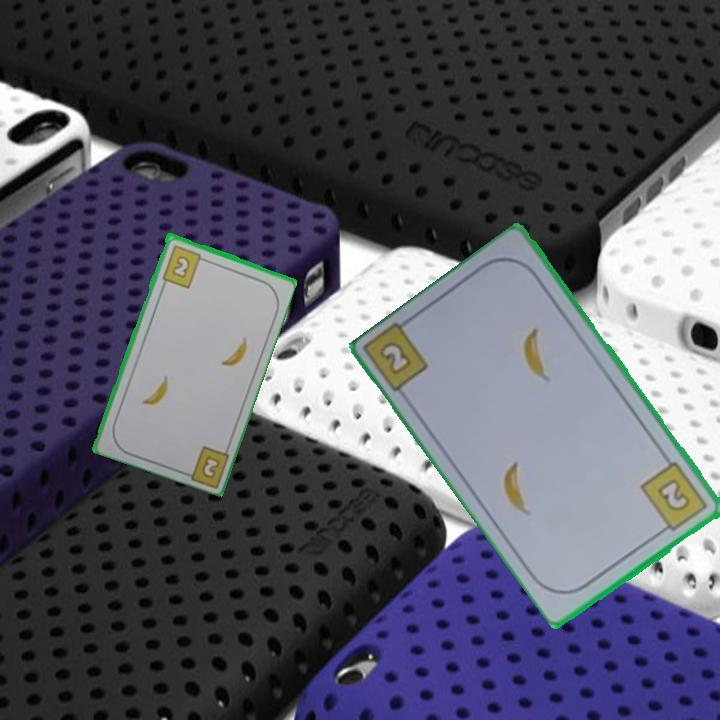2b: (637, 458, 711, 537), (159, 241, 209, 290), (376, 337, 415, 378), (198, 452, 223, 481)
